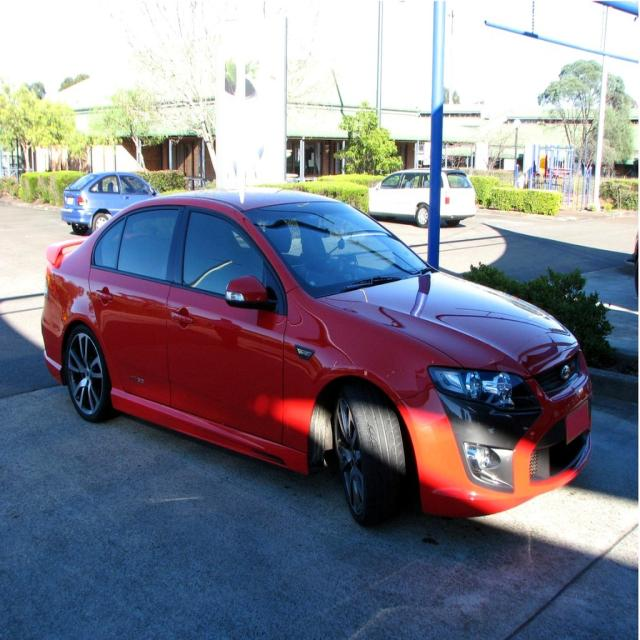car: (40, 192, 599, 532)
